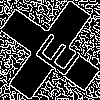E: (25, 25, 82, 79)
